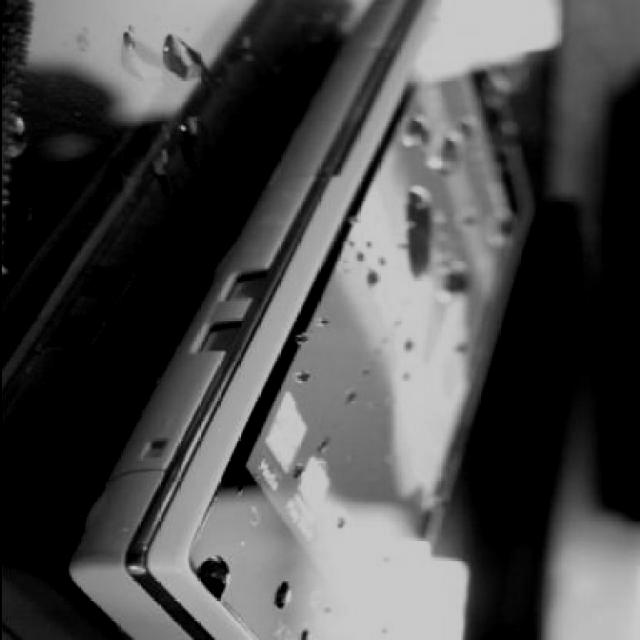fake: (63, 0, 537, 638)
